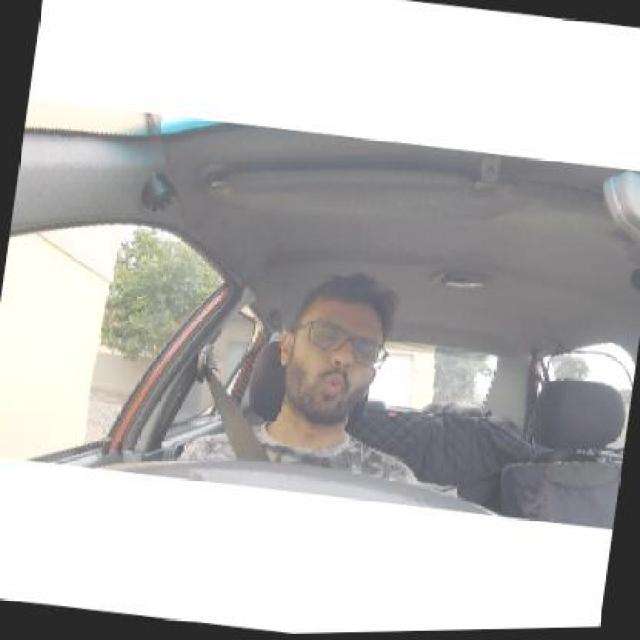drowsy: (270, 269, 388, 427)
